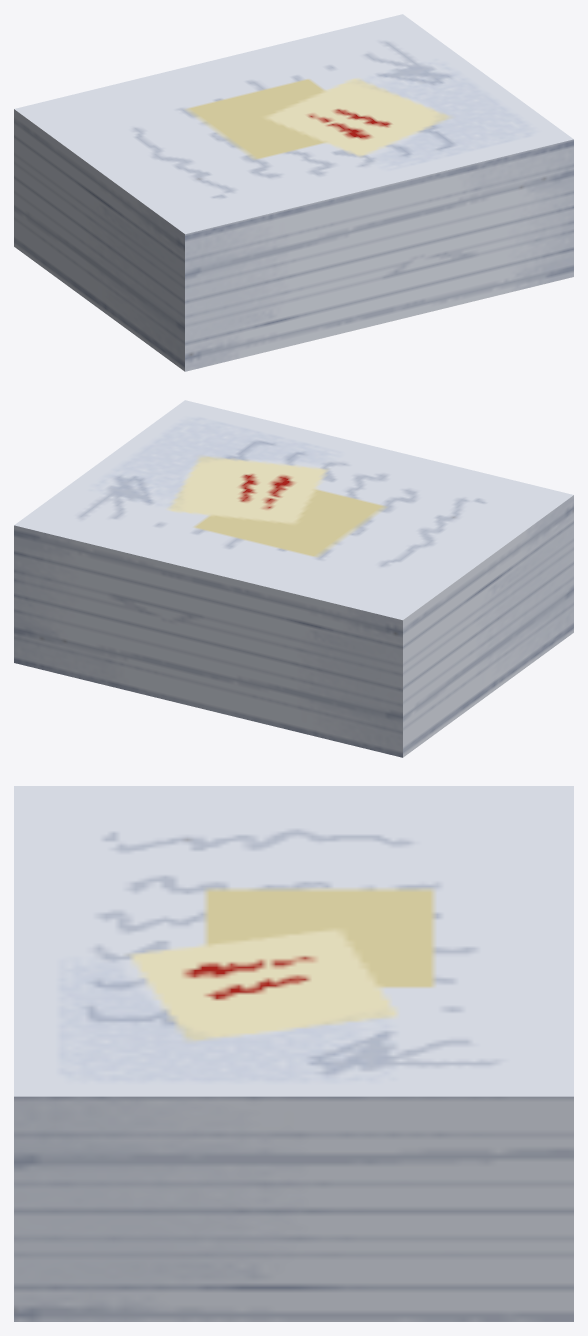
The model's file is paper stack.fbx.
3 renders of one model, top to bottom at view 1: azimuth 30°, elevation 25°; view 2: azimuth 150°, elevation 25°; view 3: azimuth 270°, elevation 25°, orthographic. The views are drawn at different scales.
Parts seen in each view (by area): view 1: paper stack; view 2: paper stack; view 3: paper stack.
Part boxes in pixels (box(x1,y1,x2,y2)): paper stack: box(14, 14, 573, 371); paper stack: box(14, 400, 573, 757); paper stack: box(14, 786, 573, 1321).
Size of the model in its own units: 98.99 by 33.47 by 75.44.
